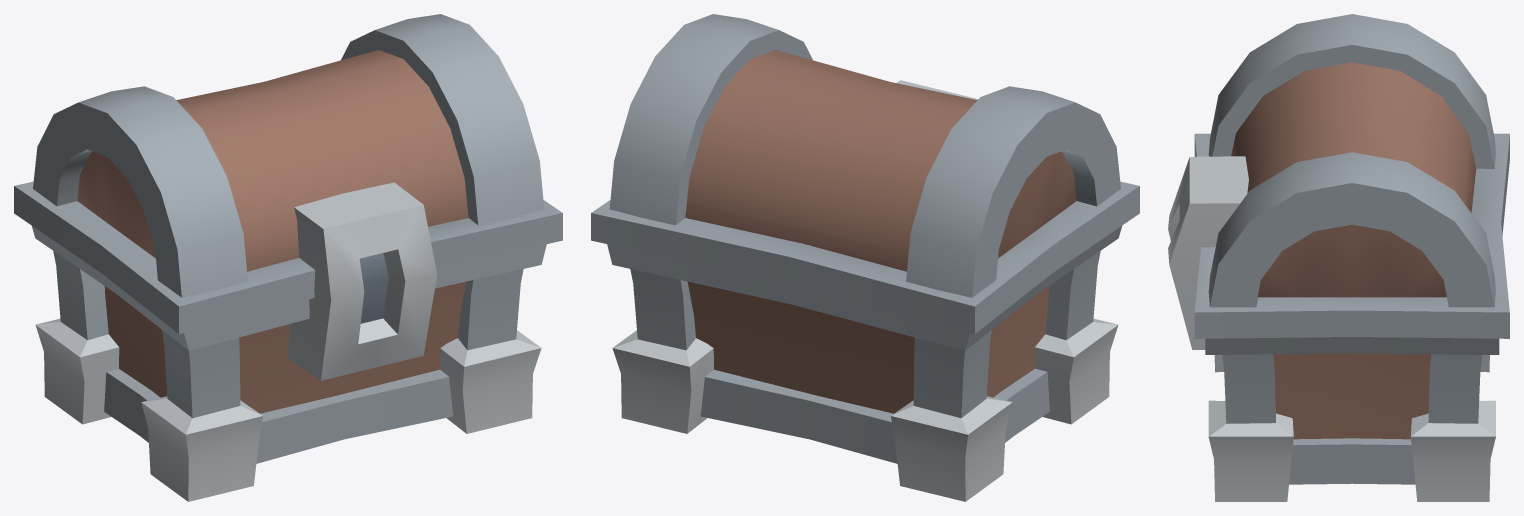
File: SM_Rewards_ChestSiliver.fbx
3 renders of one model, left to right at view 1: azimuth 30°, elevation 25°; view 2: azimuth 150°, elevation 25°; view 3: azimuth 270°, elevation 25°, orthographic. The views are drawn at different scales.
Visible parts, largest first — view 1: SM_Rewards_ChestSiliver; view 2: SM_Rewards_ChestSiliver; view 3: SM_Rewards_ChestSiliver.
Boxes of the visible parts, bbox=[...] form: SM_Rewards_ChestSiliver: bbox=[14, 14, 562, 501]; SM_Rewards_ChestSiliver: bbox=[591, 14, 1139, 501]; SM_Rewards_ChestSiliver: bbox=[1168, 14, 1509, 501].
Size of the model in its own units: 71.89 by 61.15 by 58.04.
